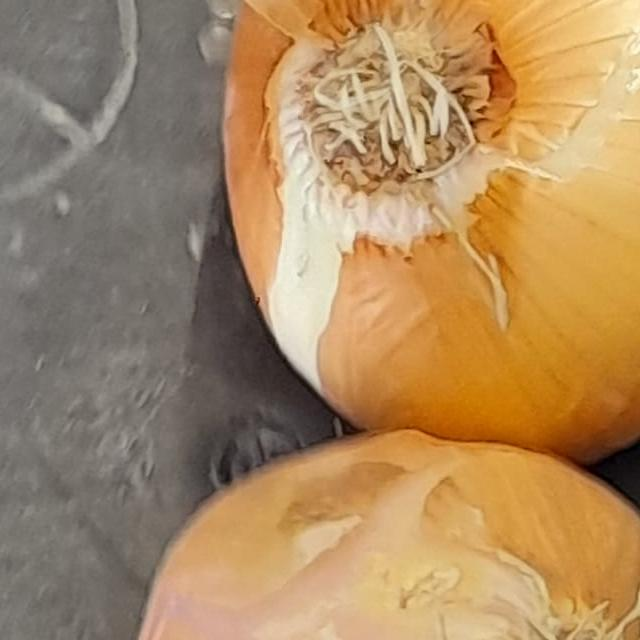onion: (136, 0, 640, 476), (73, 333, 640, 640)
